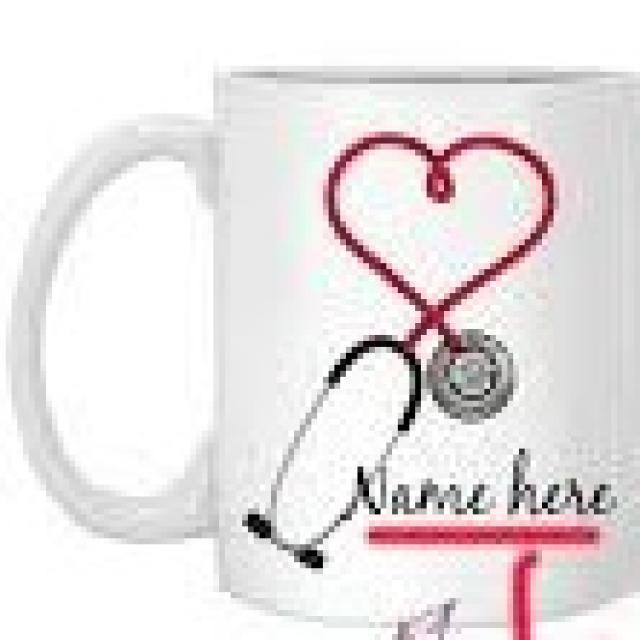taza: (1, 2, 632, 624)
